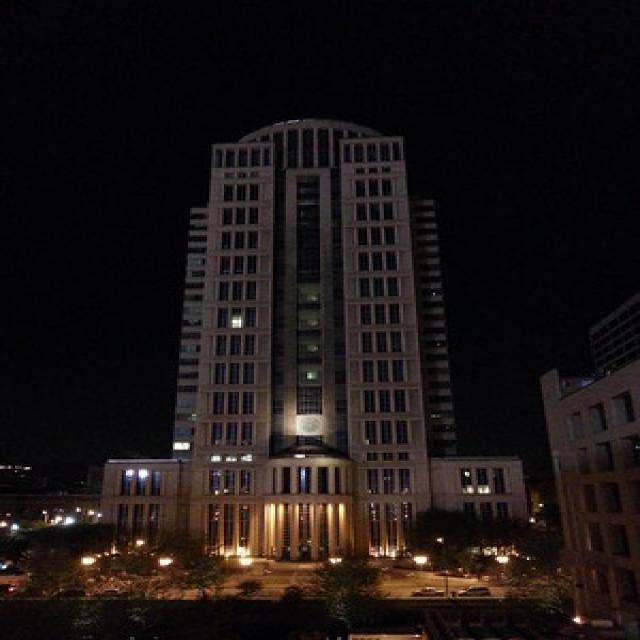Normal_building: (159, 110, 470, 572)
